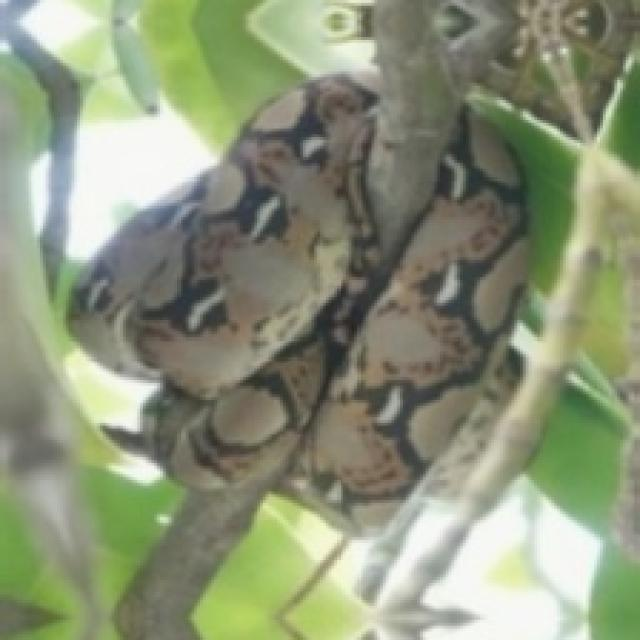reticulated python: (71, 74, 526, 583), (71, 74, 526, 531)
